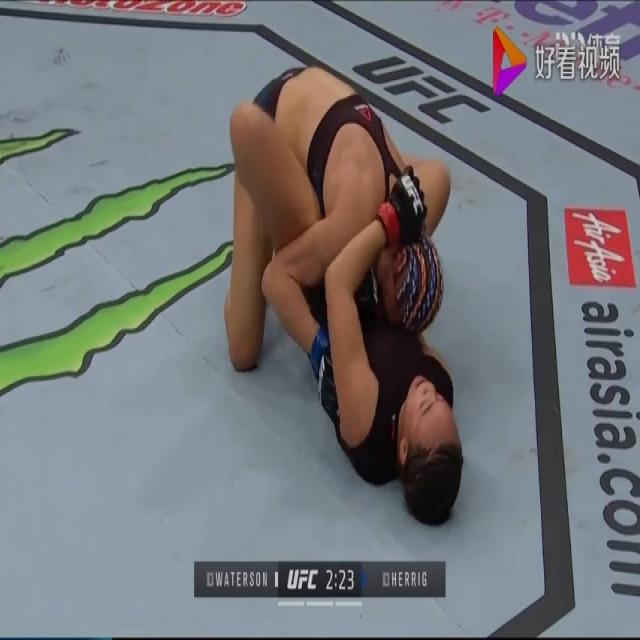fight: (223, 66, 461, 526)
